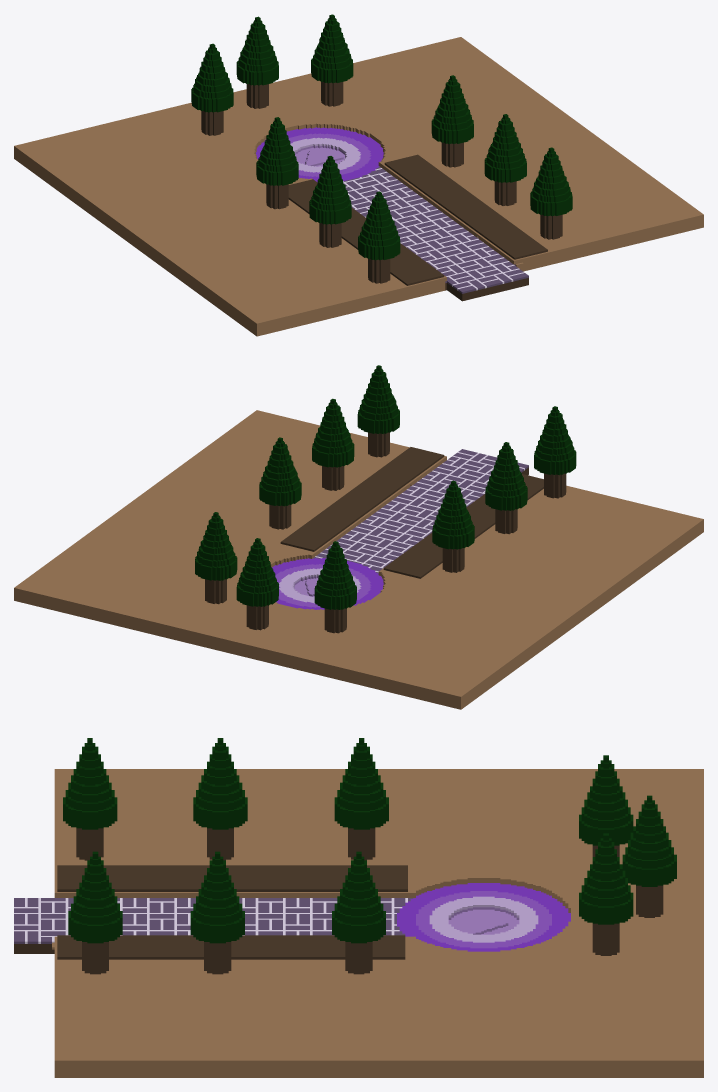
File: court_yard-0.obj
The picture shows the model from 3 angles, top to bottom: view 1: azimuth 30°, elevation 25°; view 2: azimuth 150°, elevation 25°; view 3: azimuth 270°, elevation 25°; orthographic projection. The views are drawn at different scales.
Bounding box in the file's own units: 25.4 × 5.5 × 25.4.
1 material, 1 textured.
